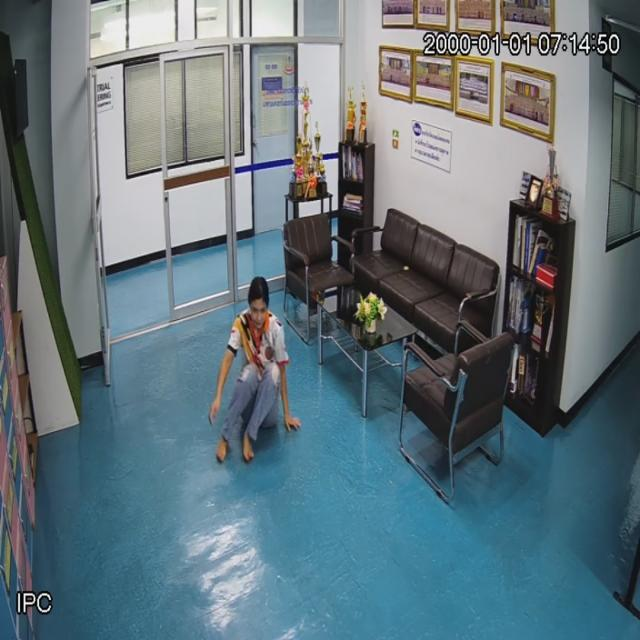normal: (210, 267, 297, 478)
